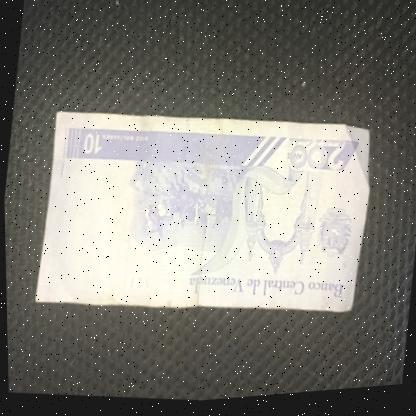ten-back-vef: (32, 92, 378, 341)
